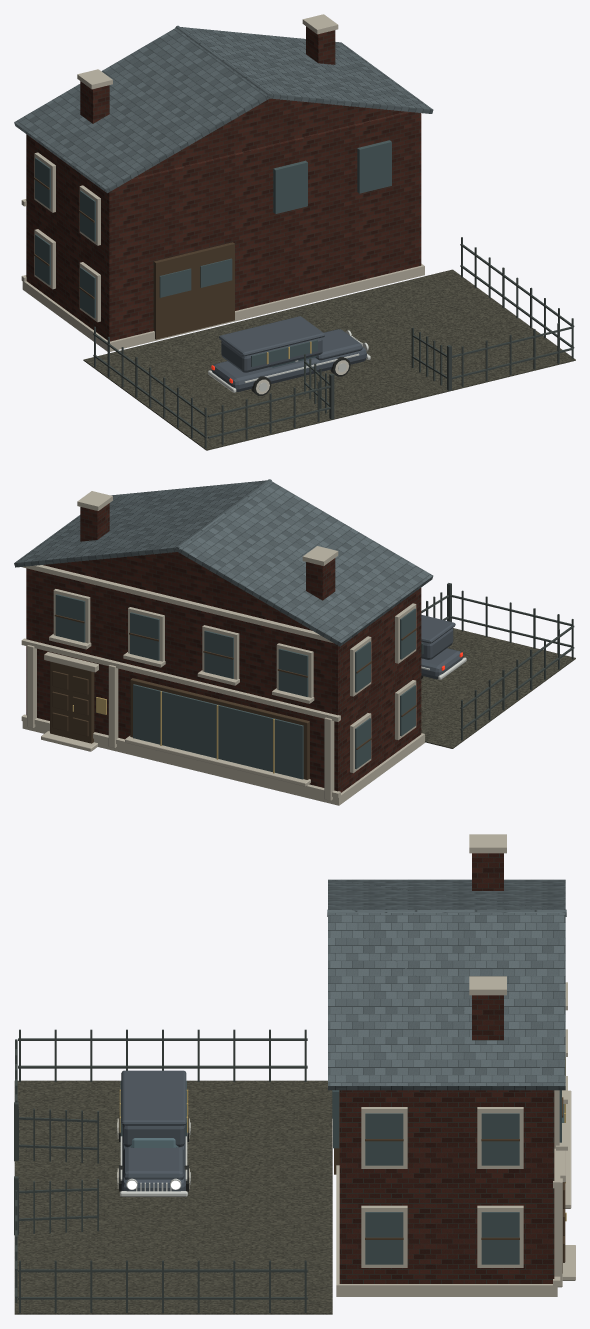
The model's file is undertaker.glb.
3 renders of one model, top to bottom at view 1: azimuth 30°, elevation 25°; view 2: azimuth 150°, elevation 25°; view 3: azimuth 270°, elevation 25°, orthographic. The views are drawn at different scales.
Visible parts, largest first — view 1: funeral premises, coach yard, slate roof, empty long window, side fence picket, funeral foundation, chassis, long window surround, centre pillar; view 2: funeral premises, slate roof, funeral foundation, empty long window, coach yard, long window surround, side fence picket, chassis, display window mullion; view 3: coach yard, slate roof, funeral premises, funeral foundation, side fence picket, empty long window, chassis, long window surround, centre pillar.
Part boxes in pixels (left/top/right/bottom): funeral premises: left=26, top=26, right=421, bottom=341; coach yard: left=83, top=269, right=575, bottom=450; slate roof: left=14, top=25, right=433, bottom=193; empty long window: left=35, top=140, right=391, bottom=366; side fence picket: left=93, top=237, right=574, bottom=448; funeral foundation: left=21, top=14, right=424, bottom=351; chassis: left=211, top=316, right=366, bottom=391; long window surround: left=34, top=177, right=234, bottom=339; centre pillar: left=208, top=330, right=370, bottom=392; funeral premises: left=26, top=503, right=421, bottom=792; slate roof: left=14, top=479, right=433, bottom=646; funeral foundation: left=21, top=491, right=424, bottom=805; empty long window: left=55, top=594, right=423, bottom=779; coach yard: left=421, top=628, right=575, bottom=748; long window surround: left=50, top=614, right=416, bottom=779; side fence picket: left=421, top=583, right=574, bottom=740; chassis: left=421, top=614, right=462, bottom=679; display window mullion: left=72, top=691, right=274, bottom=773; coach yard: left=14, top=1080, right=332, bottom=1314; slate roof: left=327, top=879, right=566, bottom=1090; funeral premises: left=339, top=853, right=554, bottom=1283; funeral foundation: left=336, top=834, right=575, bottom=1296; side fence picket: left=14, top=1029, right=307, bottom=1312; empty long window: left=120, top=1080, right=564, bottom=1264; chassis: left=121, top=1070, right=186, bottom=1191; long window surround: left=334, top=1090, right=565, bottom=1273; centre pillar: left=117, top=1122, right=190, bottom=1196.
Size of the model in its own units: 15.4 by 8.9 by 15.72.
Materials: 15 (3 with a texture image).
